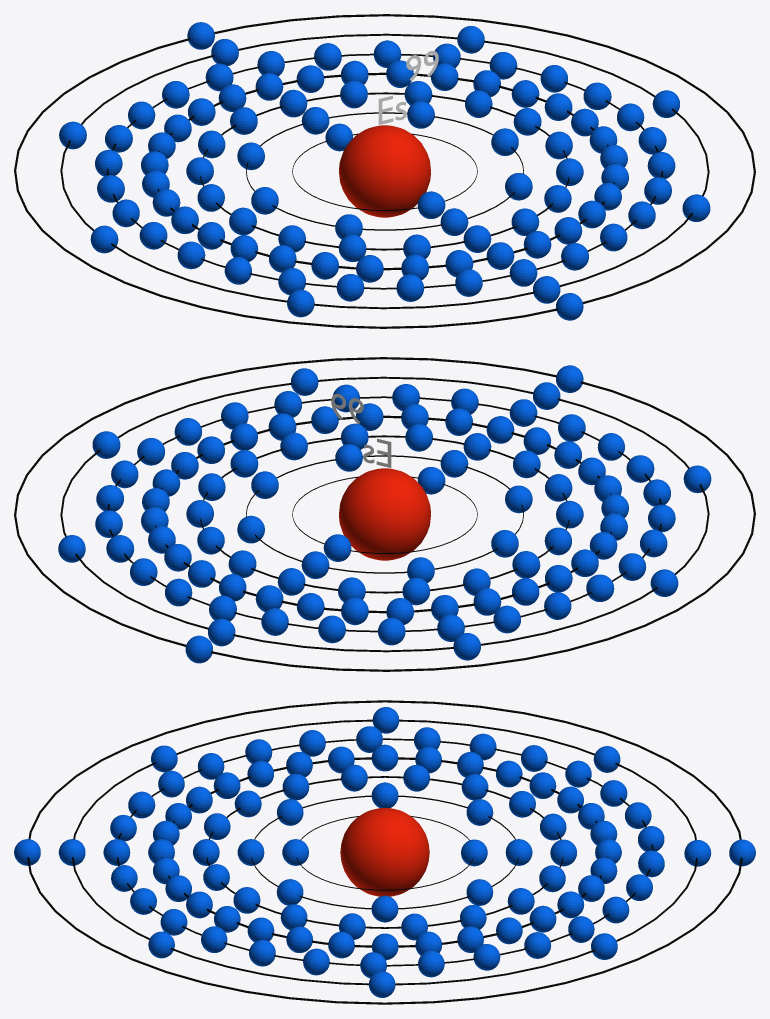
The picture shows the model from 3 angles, top to bottom: view 1: azimuth 30°, elevation 25°; view 2: azimuth 150°, elevation 25°; view 3: azimuth 270°, elevation 25°; orthographic projection. The views are drawn at different scales.
Parts seen in each view (by area): view 1: Es4, Es5, Es3, Proton, Es6, Es2, n7, n6, n5, Es7, Es1, n3 (+2 smaller); view 2: Es4, Es5, Es3, Proton, Es6, Es2, n7, n6, n5, Es7, Es1, n3 (+2 smaller); view 3: Es4, Es5, Es3, Proton, Es2, Es6, n7, n6, n5, Es1, Es7, n3 (+2 smaller).
Boxes of the visible parts, x1=… form: Es4: x1=141, y1=60, x2=628, y2=282; Es5: x1=95, y1=40, x2=675, y2=301; Es3: x1=186, y1=80, x2=583, y2=261; Proton: x1=339, y1=125, x2=430, y2=217; Es6: x1=59, y1=26, x2=710, y2=317; Es2: x1=237, y1=101, x2=532, y2=239; n7: x1=14, y1=14, x2=755, y2=328; n6: x1=60, y1=33, x2=709, y2=309; n5: x1=106, y1=53, x2=663, y2=289; Es7: x1=187, y1=22, x2=583, y2=320; Es1: x1=325, y1=123, x2=445, y2=218; n3: x1=200, y1=92, x2=569, y2=250; Es4: x1=141, y1=403, x2=628, y2=625; Es5: x1=95, y1=384, x2=675, y2=645; Es3: x1=186, y1=423, x2=583, y2=605; Proton: x1=339, y1=468, x2=430, y2=560; Es6: x1=58, y1=368, x2=711, y2=660; Es2: x1=237, y1=444, x2=532, y2=582; n7: x1=14, y1=357, x2=755, y2=671; n6: x1=60, y1=376, x2=709, y2=652; n5: x1=107, y1=396, x2=661, y2=632; Es7: x1=185, y1=365, x2=583, y2=663; Es1: x1=323, y1=467, x2=445, y2=561; n3: x1=200, y1=435, x2=569, y2=593; Es4: x1=148, y1=744, x2=621, y2=960; Es5: x1=103, y1=726, x2=664, y2=978; Es3: x1=193, y1=764, x2=576, y2=940; Proton: x1=340, y1=808, x2=429, y2=896; Es2: x1=237, y1=782, x2=532, y2=922; Es6: x1=58, y1=707, x2=711, y2=997; n7: x1=27, y1=700, x2=742, y2=1004; n6: x1=72, y1=719, x2=697, y2=985; n5: x1=117, y1=738, x2=653, y2=966; Es1: x1=282, y1=839, x2=487, y2=866; Es7: x1=14, y1=839, x2=755, y2=866; n3: x1=206, y1=776, x2=563, y2=928.
Size of the model in its own units: 802 by 180 by 830.
